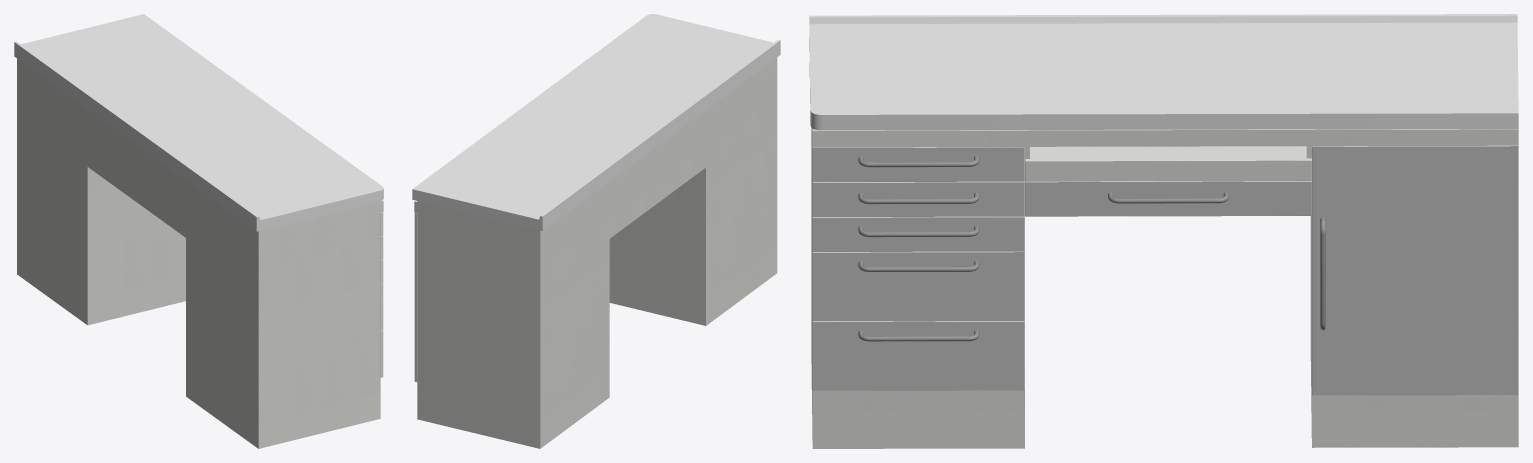
File: table4.fbx
3 views of the same model, side by side, from view 1: azimuth 30°, elevation 25°; view 2: azimuth 150°, elevation 25°; view 3: azimuth 270°, elevation 25° (orthographic). The views are drawn at different scales.
Visible parts, largest first — view 1: table75; view 2: table75; view 3: table75.
Boxes of the visible parts, <box> form: table75: <box>14,14,383,448</box>; table75: <box>412,14,780,448</box>; table75: <box>809,14,1518,448</box>.
Size of the model in its own units: 165 by 55.67 by 88.27.
